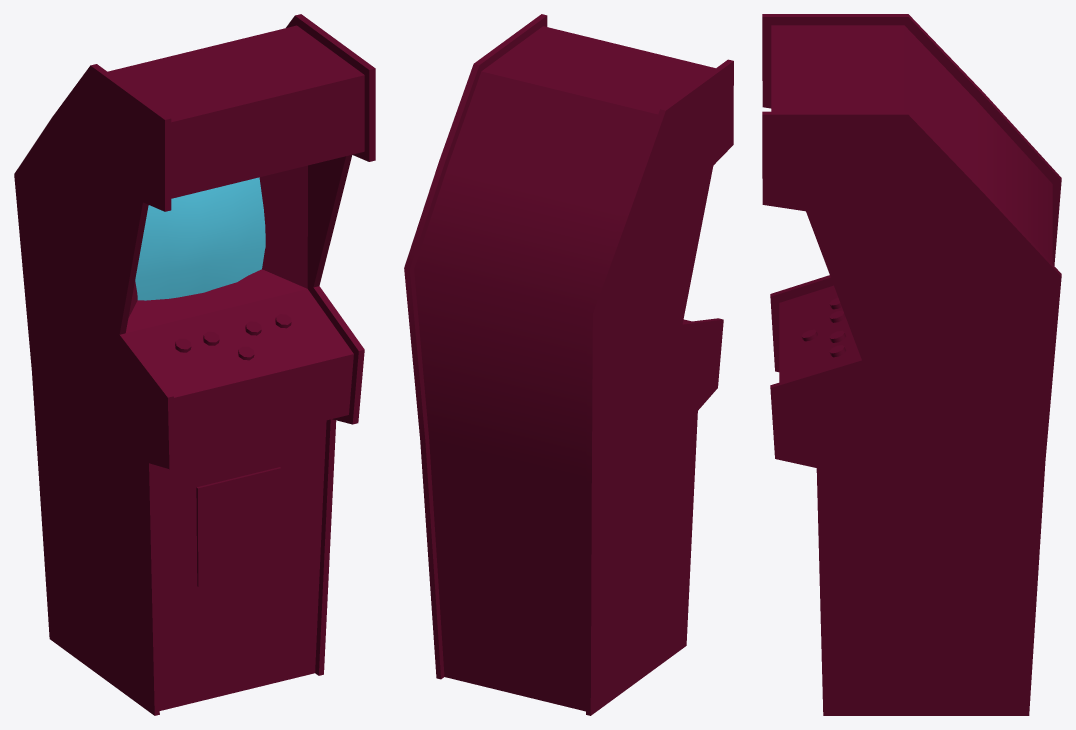
The model's file is arcade_bhm.fbx.
3 views of the same model, side by side, from view 1: azimuth 30°, elevation 25°; view 2: azimuth 150°, elevation 25°; view 3: azimuth 270°, elevation 25° (orthographic). The views are drawn at different scales.
Visible parts, largest first — view 1: Arcade_BHM, Screen_Plane; view 2: Arcade_BHM; view 3: Arcade_BHM.
Part boxes in pixels (left/top/right/bottom): Arcade_BHM: left=14, top=14, right=375, bottom=715; Screen_Plane: left=135, top=177, right=265, bottom=300; Arcade_BHM: left=404, top=14, right=733, bottom=715; Arcade_BHM: left=762, top=14, right=1061, bottom=715.
Bounding box in the file's own units: 0.825 × 2.33 × 1.04.
